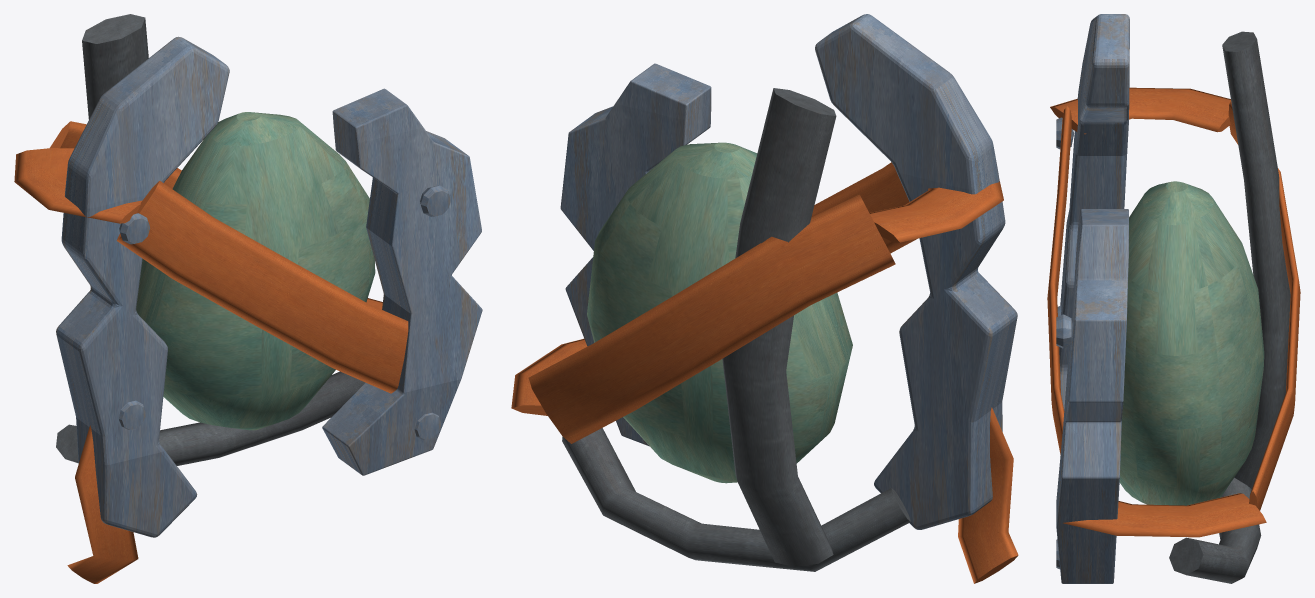
Rendered from hybrid_salvage_hull.obj.
3 views of the same model, side by side, from view 1: azimuth 30°, elevation 25°; view 2: azimuth 150°, elevation 25°; view 3: azimuth 270°, elevation 25° (orthographic). The views are drawn at different scales.
Visible parts, largest first — view 1: HULL_left.001_hybrid_salvage_hull_outer, CORE_OrganicVolume.001_hybrid_salvage_hull_core, HULL_right.001_hybrid_salvage_hull_outer, BINDING_FrontDiagonal.001_hybrid_salvage_hull_binding, BASE_Cradle.001_hybrid_salvage_hull_spine, BACK_SupportSpine.001_hybrid_salvage_hull_spine, BINDING_FoldedTail.001_hybrid_salvage_hull_binding, BINDING_LeftReturn.001_hybrid_salvage_hull_binding, BINDING_BackDiagonal.001_hybrid_salvage_hull_binding, FASTENER_2.001_hybrid_salvage_hull_outer, FASTENER_0.001_hybrid_salvage_hull_outer, FASTENER_1.001_hybrid_salvage_hull_outer; view 2: HULL_left.001_hybrid_salvage_hull_outer, CORE_OrganicVolume.001_hybrid_salvage_hull_core, BINDING_BackDiagonal.001_hybrid_salvage_hull_binding, BACK_SupportSpine.001_hybrid_salvage_hull_spine, HULL_right.001_hybrid_salvage_hull_outer, BASE_Cradle.001_hybrid_salvage_hull_spine, BINDING_FoldedTail.001_hybrid_salvage_hull_binding, BINDING_LeftReturn.001_hybrid_salvage_hull_binding, BINDING_FrontDiagonal.001_hybrid_salvage_hull_binding, BINDING_RightReturn.001_hybrid_salvage_hull_binding; view 3: CORE_OrganicVolume.001_hybrid_salvage_hull_core, HULL_right.001_hybrid_salvage_hull_outer, BACK_SupportSpine.001_hybrid_salvage_hull_spine, HULL_left.001_hybrid_salvage_hull_outer, BINDING_RightReturn.001_hybrid_salvage_hull_binding, BINDING_BackDiagonal.001_hybrid_salvage_hull_binding, BASE_Cradle.001_hybrid_salvage_hull_spine, BINDING_LeftReturn.001_hybrid_salvage_hull_binding, BINDING_FrontDiagonal.001_hybrid_salvage_hull_binding, FASTENER_2.001_hybrid_salvage_hull_outer.
Part boxes in pixels (x1=…): HULL_left.001_hybrid_salvage_hull_outer: x1=56, y1=36, x2=229, y2=537; CORE_OrganicVolume.001_hybrid_salvage_hull_core: x1=136, y1=112, x2=375, y2=430; HULL_right.001_hybrid_salvage_hull_outer: x1=322, y1=88, x2=482, y2=475; BINDING_FrontDiagonal.001_hybrid_salvage_hull_binding: x1=116, y1=181, x2=408, y2=393; BASE_Cradle.001_hybrid_salvage_hull_spine: x1=56, y1=371, x2=365, y2=465; BACK_SupportSpine.001_hybrid_salvage_hull_spine: x1=82, y1=14, x2=148, y2=119; BINDING_FoldedTail.001_hybrid_salvage_hull_binding: x1=67, y1=425, x2=138, y2=583; BINDING_LeftReturn.001_hybrid_salvage_hull_binding: x1=14, y1=148, x2=142, y2=223; BINDING_BackDiagonal.001_hybrid_salvage_hull_binding: x1=50, y1=121, x2=181, y2=188; FASTENER_2.001_hybrid_salvage_hull_outer: x1=420, y1=185, x2=450, y2=216; FASTENER_0.001_hybrid_salvage_hull_outer: x1=119, y1=213, x2=149, y2=244; FASTENER_1.001_hybrid_salvage_hull_outer: x1=119, y1=400, x2=145, y2=429; HULL_left.001_hybrid_salvage_hull_outer: x1=815, y1=14, x2=1017, y2=529; CORE_OrganicVolume.001_hybrid_salvage_hull_core: x1=587, y1=142, x2=852, y2=483; BINDING_BackDiagonal.001_hybrid_salvage_hull_binding: x1=528, y1=194, x2=895, y2=443; BACK_SupportSpine.001_hybrid_salvage_hull_spine: x1=722, y1=88, x2=836, y2=566; HULL_right.001_hybrid_salvage_hull_outer: x1=560, y1=63, x2=711, y2=446; BASE_Cradle.001_hybrid_salvage_hull_spine: x1=562, y1=428, x2=910, y2=571; BINDING_FoldedTail.001_hybrid_salvage_hull_binding: x1=958, y1=407, x2=1018, y2=583; BINDING_LeftReturn.001_hybrid_salvage_hull_binding: x1=869, y1=179, x2=1003, y2=242; BINDING_FrontDiagonal.001_hybrid_salvage_hull_binding: x1=811, y1=162, x2=917, y2=253; BINDING_RightReturn.001_hybrid_salvage_hull_binding: x1=511, y1=338, x2=587, y2=415; CORE_OrganicVolume.001_hybrid_salvage_hull_core: x1=1119, y1=181, x2=1264, y2=505; HULL_right.001_hybrid_salvage_hull_outer: x1=1056, y1=209, x2=1128, y2=583; BACK_SupportSpine.001_hybrid_salvage_hull_spine: x1=1222, y1=31, x2=1290, y2=488; HULL_left.001_hybrid_salvage_hull_outer: x1=1059, y1=14, x2=1129, y2=410; BINDING_RightReturn.001_hybrid_salvage_hull_binding: x1=1063, y1=493, x2=1266, y2=537; BINDING_BackDiagonal.001_hybrid_salvage_hull_binding: x1=1228, y1=100, x2=1300, y2=510; BASE_Cradle.001_hybrid_salvage_hull_spine: x1=1169, y1=477, x2=1261, y2=583; BINDING_LeftReturn.001_hybrid_salvage_hull_binding: x1=1050, y1=87, x2=1230, y2=134; BINDING_FrontDiagonal.001_hybrid_salvage_hull_binding: x1=1047, y1=106, x2=1071, y2=454; FASTENER_2.001_hybrid_salvage_hull_outer: x1=1056, y1=314, x2=1072, y2=348.
Size of the model in its own units: 3.06 by 3.6 by 1.57.
